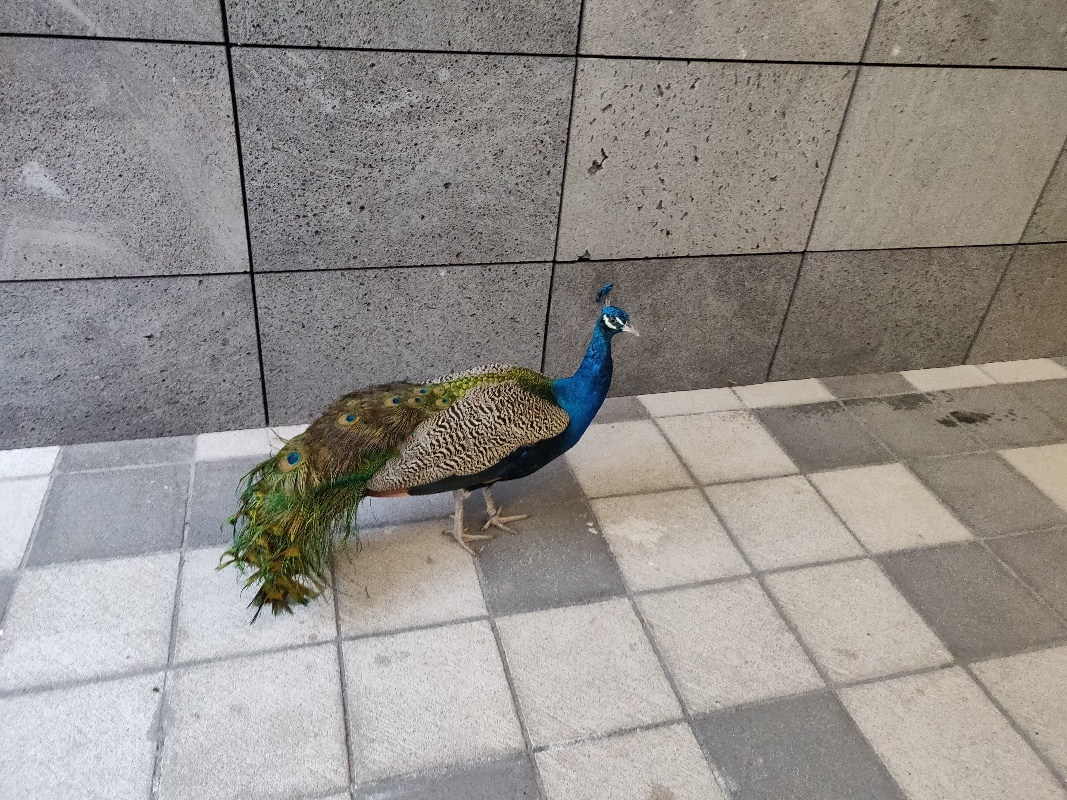pavoreal: (398, 305, 644, 491)
